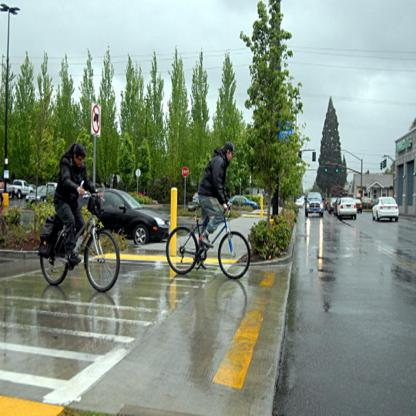face: (77, 156, 84, 168), (229, 152, 234, 162)
